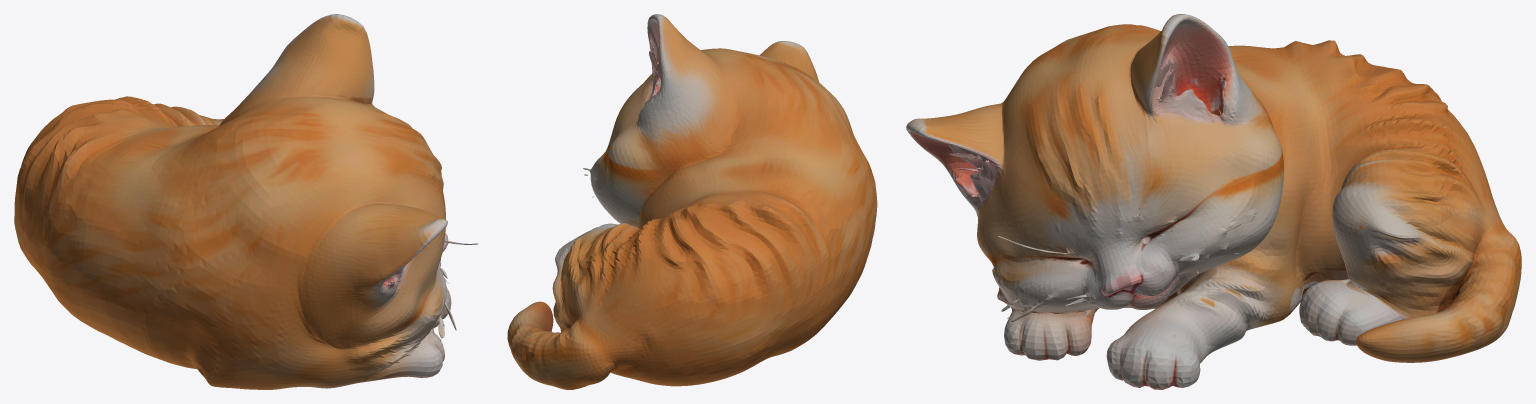
3 renders of one model, left to right at view 1: azimuth 30°, elevation 25°; view 2: azimuth 150°, elevation 25°; view 3: azimuth 270°, elevation 25°, orthographic. The views are drawn at different scales.
Visible parts, largest first — view 1: tripo_node_e270e8b4-e5a6-4a72-b589-5c1e4415875e; view 2: tripo_node_e270e8b4-e5a6-4a72-b589-5c1e4415875e; view 3: tripo_node_e270e8b4-e5a6-4a72-b589-5c1e4415875e.
Boxes of the visible parts, x1,y1,x2,y2 form: tripo_node_e270e8b4-e5a6-4a72-b589-5c1e4415875e: [14, 14, 478, 389]; tripo_node_e270e8b4-e5a6-4a72-b589-5c1e4415875e: [507, 14, 877, 389]; tripo_node_e270e8b4-e5a6-4a72-b589-5c1e4415875e: [906, 14, 1521, 389].
Bounding box in the file's own units: 0.6831 × 0.5949 × 0.9998.
Materials: 1 (1 with a texture image).
